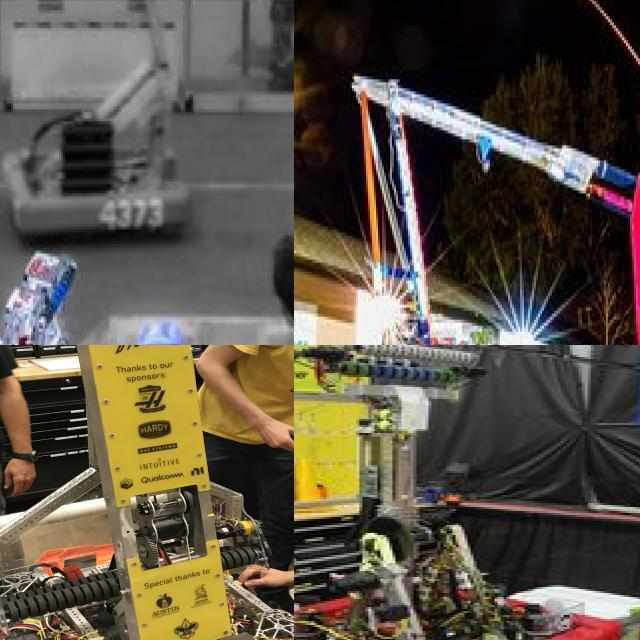FRC-Robots: (294, 345, 640, 640), (294, 72, 640, 345), (0, 345, 294, 640), (0, 0, 245, 242), (0, 0, 151, 345)
